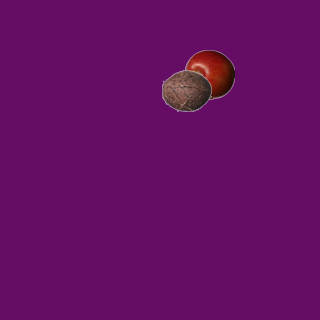Apple Braeburn: (184, 49, 234, 99)
Cocos: (161, 65, 211, 115)
